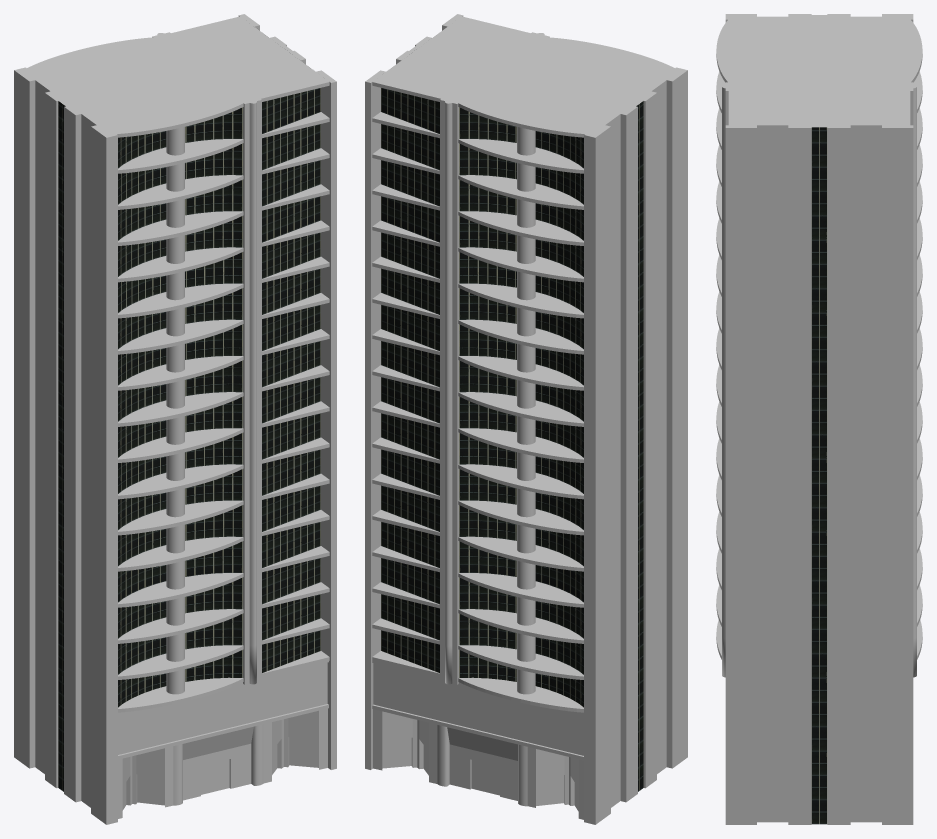
3 renders of one model, left to right at view 1: azimuth 30°, elevation 25°; view 2: azimuth 150°, elevation 25°; view 3: azimuth 270°, elevation 25°, orthographic.
Parts seen in each view (by area): view 1: BC-049; view 2: BC-049; view 3: BC-049.
Part boxes in pixels (x1,y1,x2,y2): BC-049: [14, 14, 336, 824]; BC-049: [365, 14, 687, 824]; BC-049: [716, 14, 922, 824].
Size of what is drawn, in the model's own units: 20 by 57 by 15.27.
